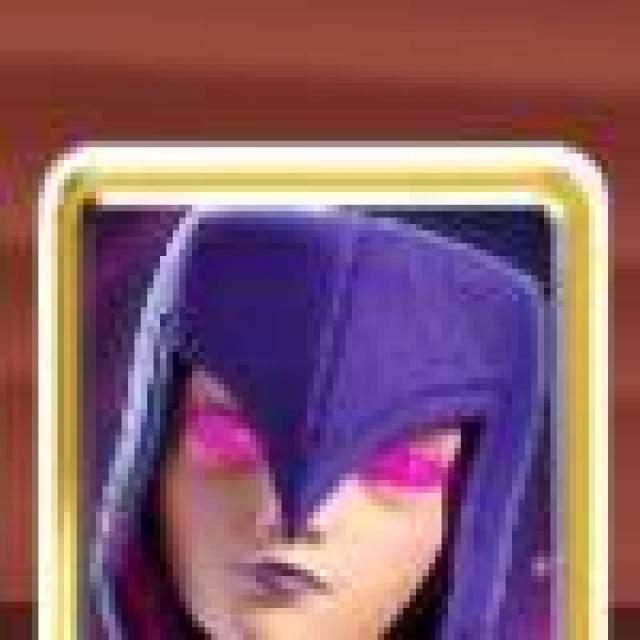Witch: (42, 142, 616, 640)
